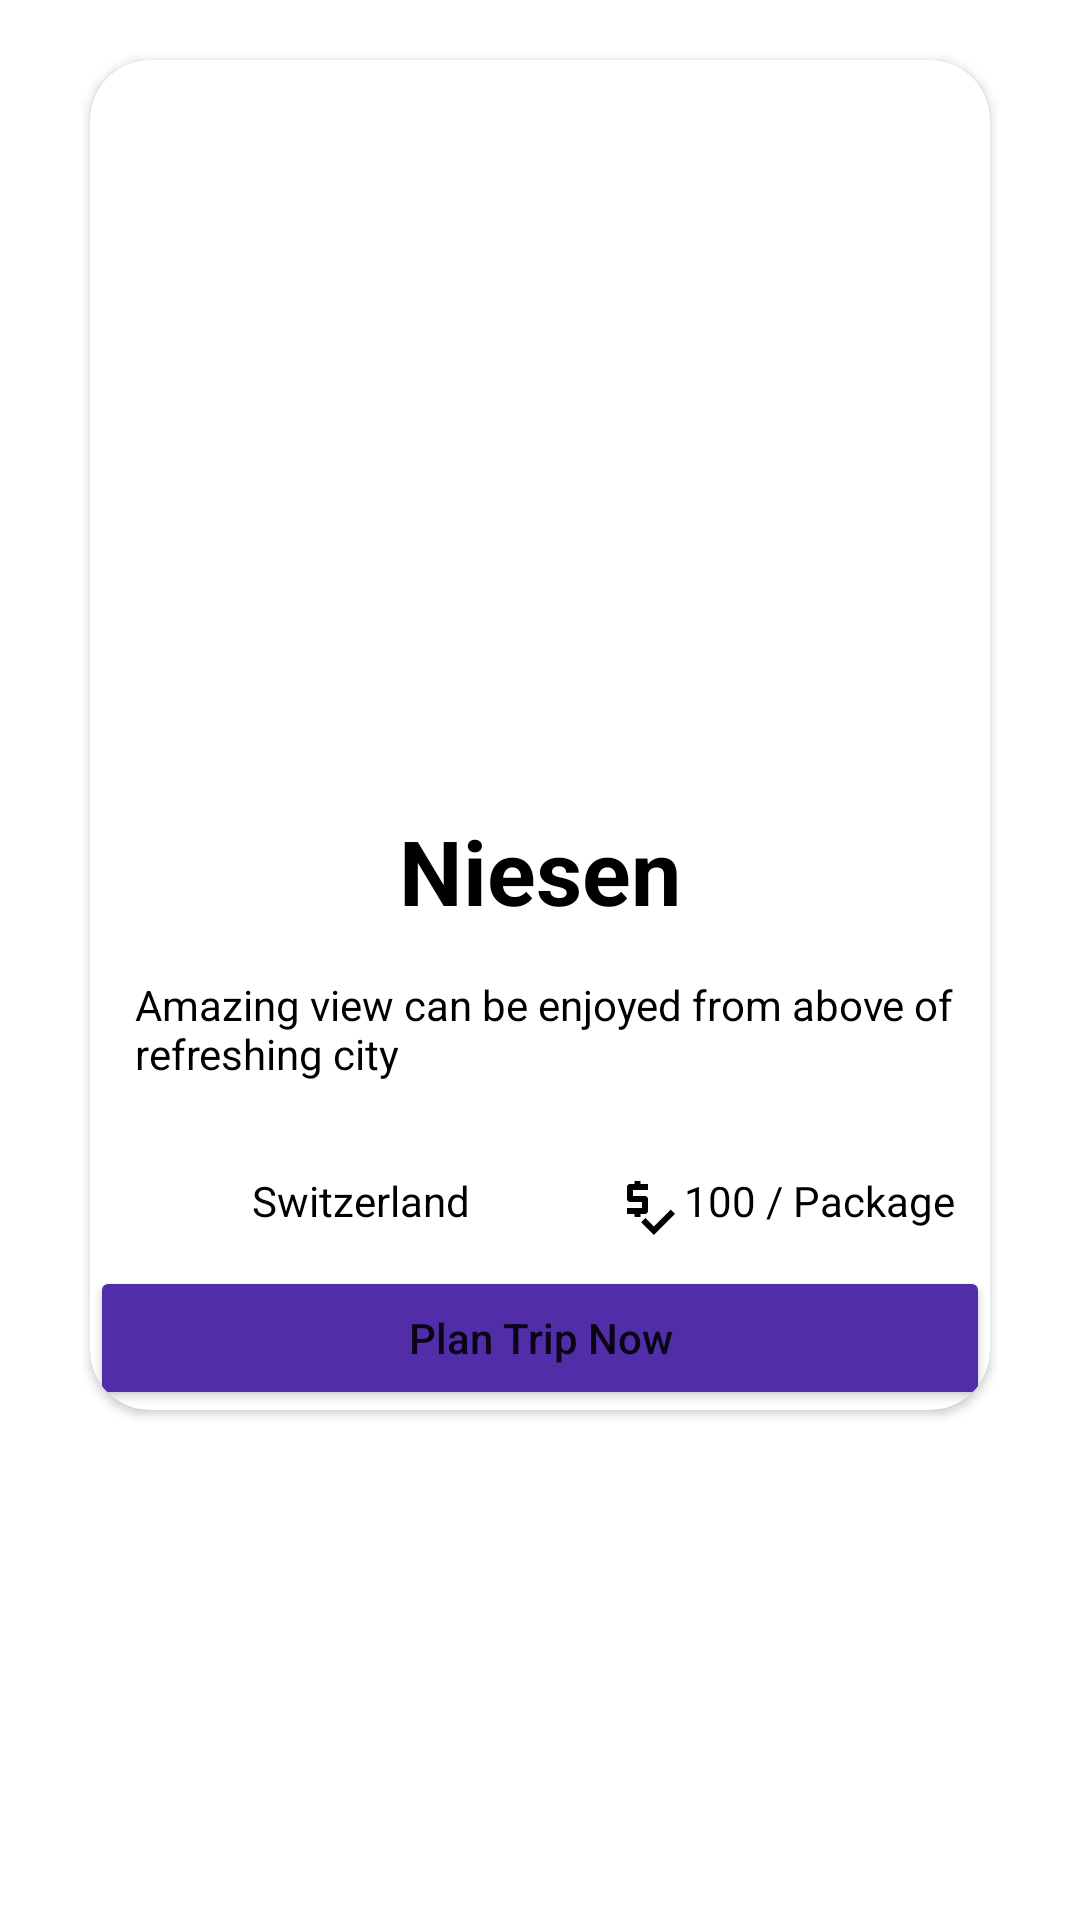

Screen size 1080px x 1920px. Icon name, then its box in pixels as (x1, y1, x2, y2):
price check: (627, 1181, 675, 1235)
